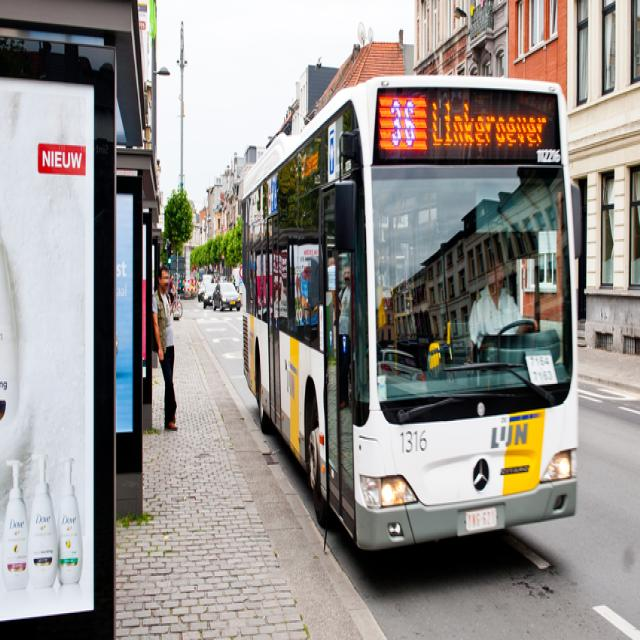bus-number: (380, 96, 426, 150)
